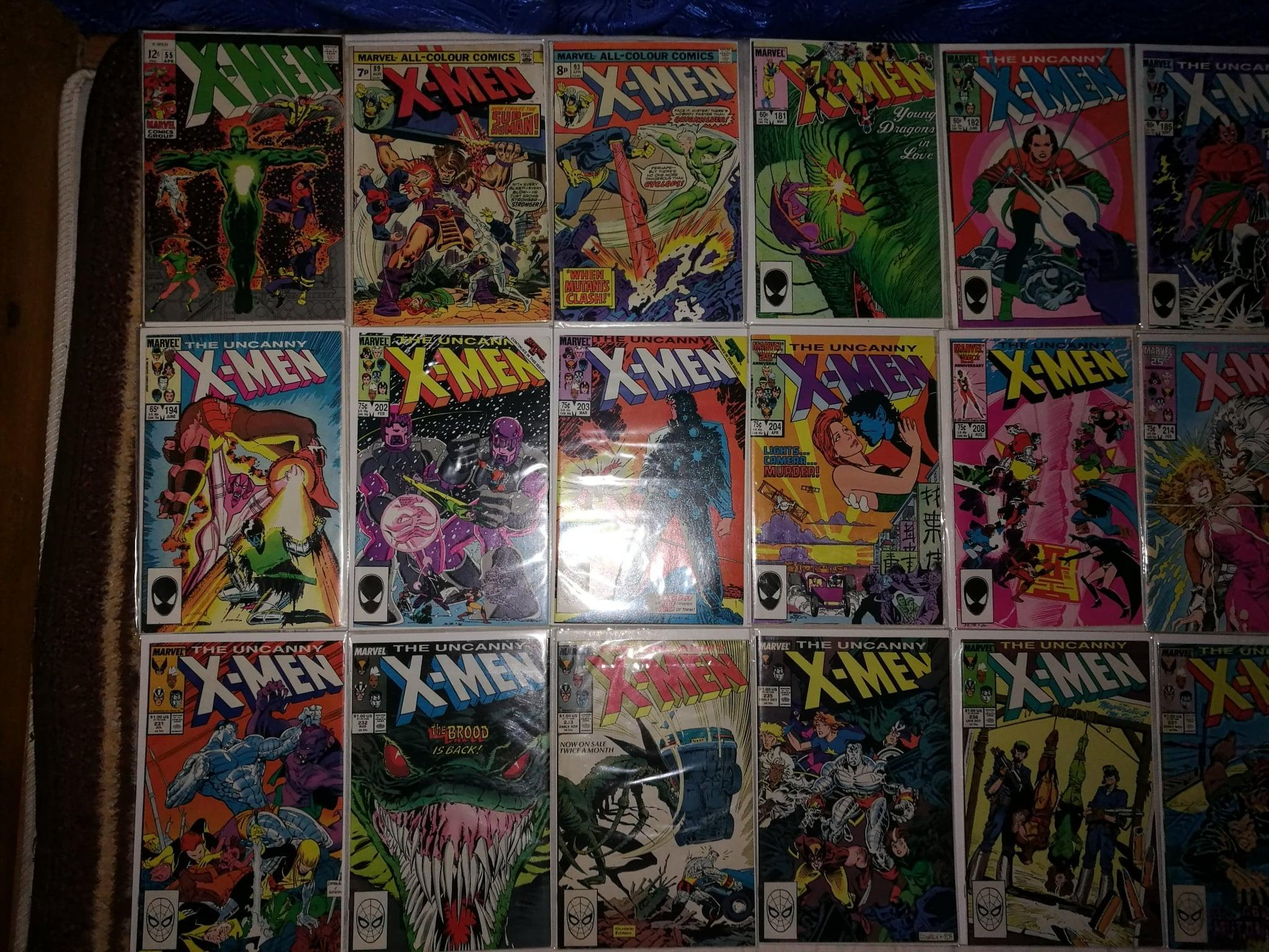comic: (130, 636, 349, 952), (956, 631, 1164, 952), (346, 633, 552, 952), (553, 630, 756, 948), (139, 324, 345, 634), (757, 632, 959, 943), (142, 31, 346, 322), (352, 327, 551, 625), (348, 35, 550, 326), (748, 330, 944, 628), (942, 40, 1140, 331), (948, 334, 1142, 629), (749, 36, 944, 325), (555, 334, 747, 624), (552, 39, 744, 322)
